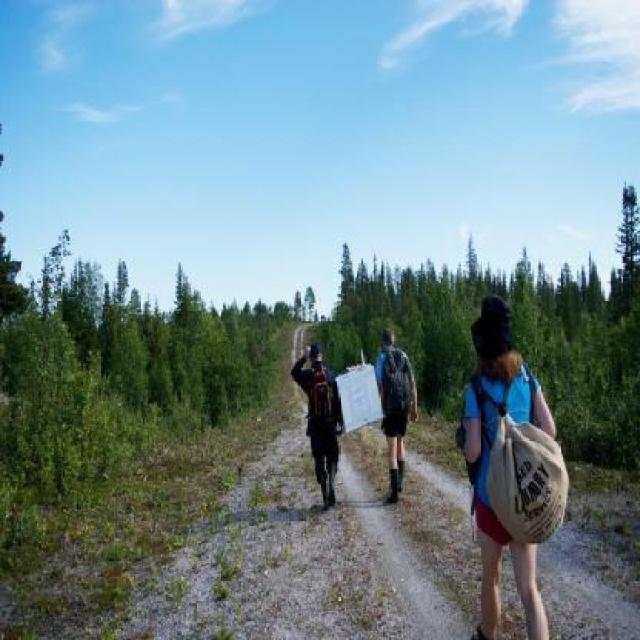backpack: (482, 408, 570, 548), (381, 348, 414, 420), (308, 365, 334, 423)
